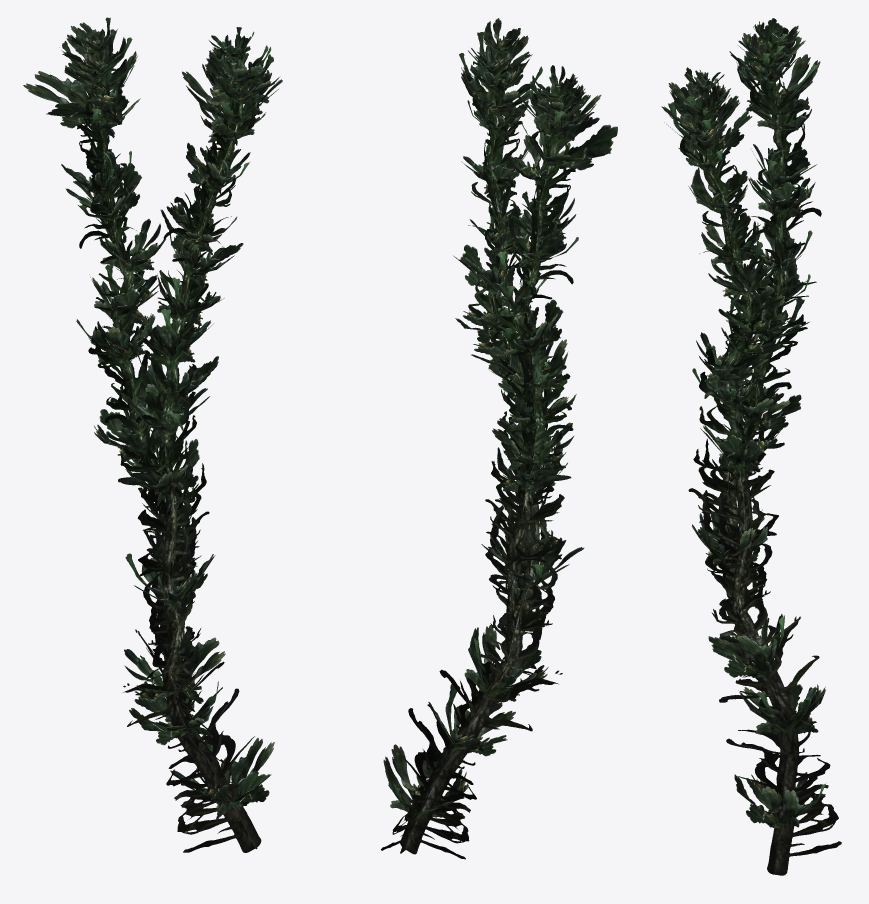
File: PondWeed.002_FBX_still.fbx
3 renders of one model, left to right at view 1: azimuth 30°, elevation 25°; view 2: azimuth 150°, elevation 25°; view 3: azimuth 270°, elevation 25°, orthographic. The views are drawn at different scales.
Visible parts, largest first — view 1: PondWeed.002_gameasset; view 2: PondWeed.002_gameasset; view 3: PondWeed.002_gameasset.
Part boxes in pixels (x1,y1,x2,y2): PondWeed.002_gameasset: (23,17,282,852); PondWeed.002_gameasset: (381,18,617,859); PondWeed.002_gameasset: (661,18,841,875).
Bounding box in the file's own units: 7.99 × 23.69 × 5.46.
Materials: 2 (2 with a texture image).
